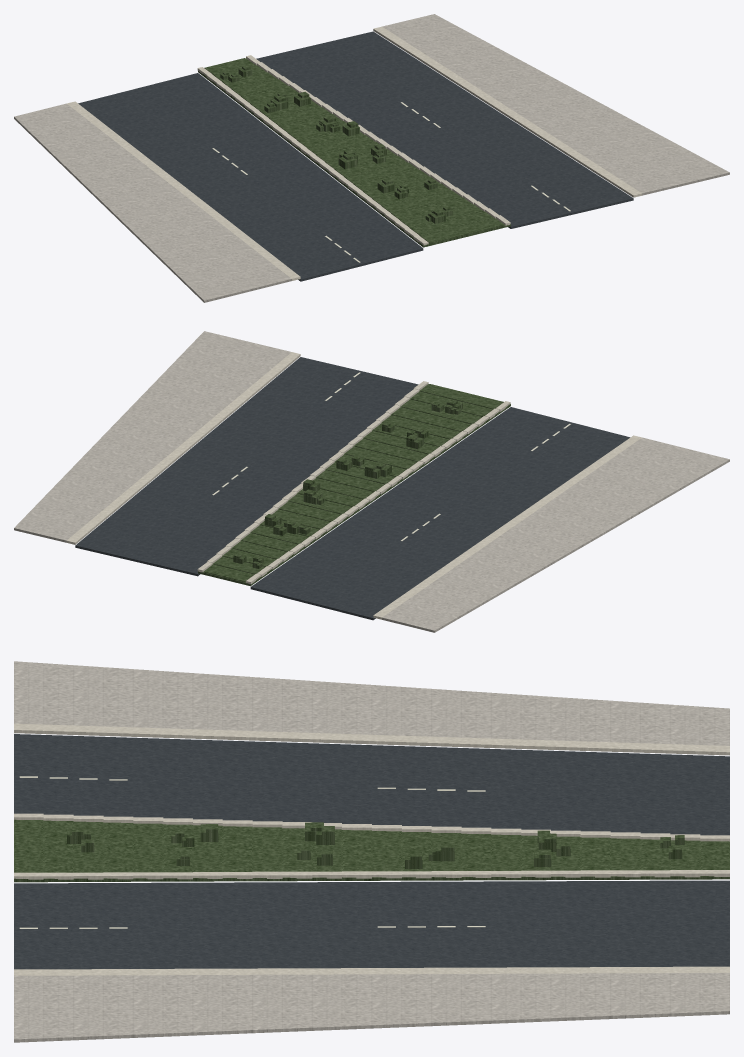
3 views of the same model, one above another, from view 1: azimuth 30°, elevation 25°; view 2: azimuth 150°, elevation 25°; view 3: azimuth 270°, elevation 25° (orthographic). The views are drawn at different scales.
Parts seen in each view (by area): view 1: VIS_WESTROAD, VIS_EASTROAD, VIS_WESTWALK, VIS_EASTWALK, VIS_SOIL, VIS_MEDIAN_EDGE, VIS_EASTCURB, VIS_SHRUB, VIS_WESTCURB, VIS_MEDIAN; view 2: VIS_WESTROAD, VIS_EASTROAD, VIS_WESTWALK, VIS_EASTWALK, VIS_SOIL, VIS_MEDIAN_EDGE, VIS_EASTCURB, VIS_SHRUB, VIS_WESTCURB, VIS_MEDIAN; view 3: VIS_EASTROAD, VIS_WESTROAD, VIS_EASTWALK, VIS_WESTWALK, VIS_SOIL, VIS_MEDIAN_EDGE, VIS_WESTCURB, VIS_EASTCURB, VIS_SHRUB, VIS_MEDIAN.
Part boxes in pixels (box(x1,y1,x2,y2)): VIS_WESTROAD: box(78, 73, 423, 281); VIS_EASTROAD: box(256, 31, 633, 228); VIS_WESTWALK: box(14, 103, 291, 302); VIS_EASTWALK: box(382, 14, 729, 195); VIS_SOIL: box(204, 58, 503, 243); VIS_MEDIAN_EDGE: box(197, 55, 510, 245); VIS_EASTCURB: box(373, 26, 642, 197); VIS_SHRUB: box(220, 65, 452, 223); VIS_WESTCURB: box(67, 101, 300, 280); VIS_MEDIAN: box(198, 58, 510, 247); VIS_WESTROAD: box(250, 407, 630, 620); VIS_EASTROAD: box(75, 357, 418, 576); VIS_WESTWALK: box(382, 437, 729, 632); VIS_EASTWALK: box(14, 331, 291, 542); VIS_SOIL: box(204, 384, 503, 581); VIS_MEDIAN_EDGE: box(197, 381, 510, 584); VIS_EASTCURB: box(66, 352, 300, 544); VIS_SHRUB: box(233, 399, 462, 568); VIS_WESTCURB: box(373, 435, 641, 619); VIS_MEDIAN: box(198, 384, 510, 586); VIS_EASTROAD: box(14, 880, 729, 969); VIS_WESTROAD: box(14, 734, 729, 835); VIS_EASTWALK: box(14, 973, 729, 1042); VIS_WESTWALK: box(14, 661, 729, 745); VIS_SOIL: box(14, 820, 729, 872); VIS_MEDIAN_EDGE: box(14, 813, 729, 879); VIS_WESTCURB: box(14, 723, 729, 755); VIS_EASTCURB: box(14, 966, 729, 975); VIS_SHRUB: box(67, 822, 684, 868); VIS_MEDIAN: box(14, 819, 729, 882).
Bounding box in the file's own units: 30 × 1.2 × 24.
Materials: 5 (5 with a texture image).
